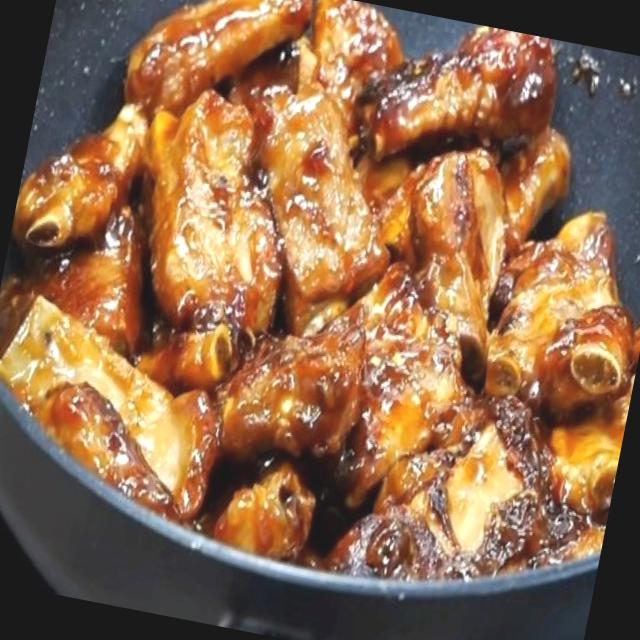suon xao: (0, 0, 640, 578)
